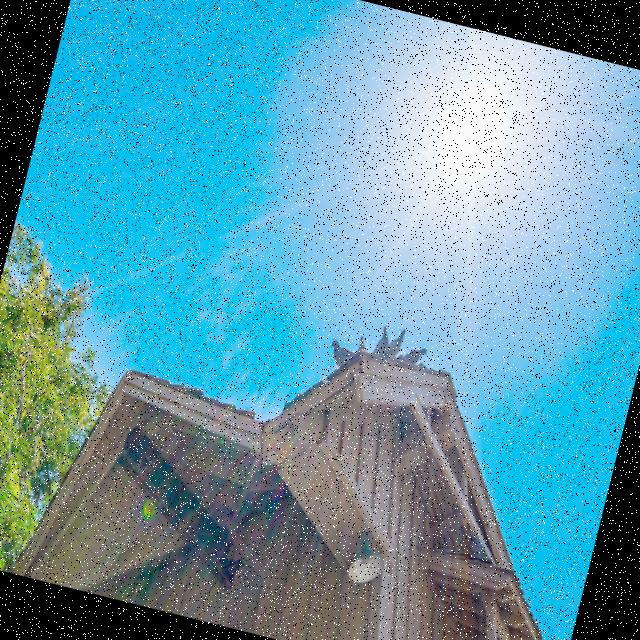bird: (324, 336, 358, 372), (396, 340, 428, 370), (382, 324, 407, 362), (372, 323, 394, 358), (355, 334, 370, 354)
